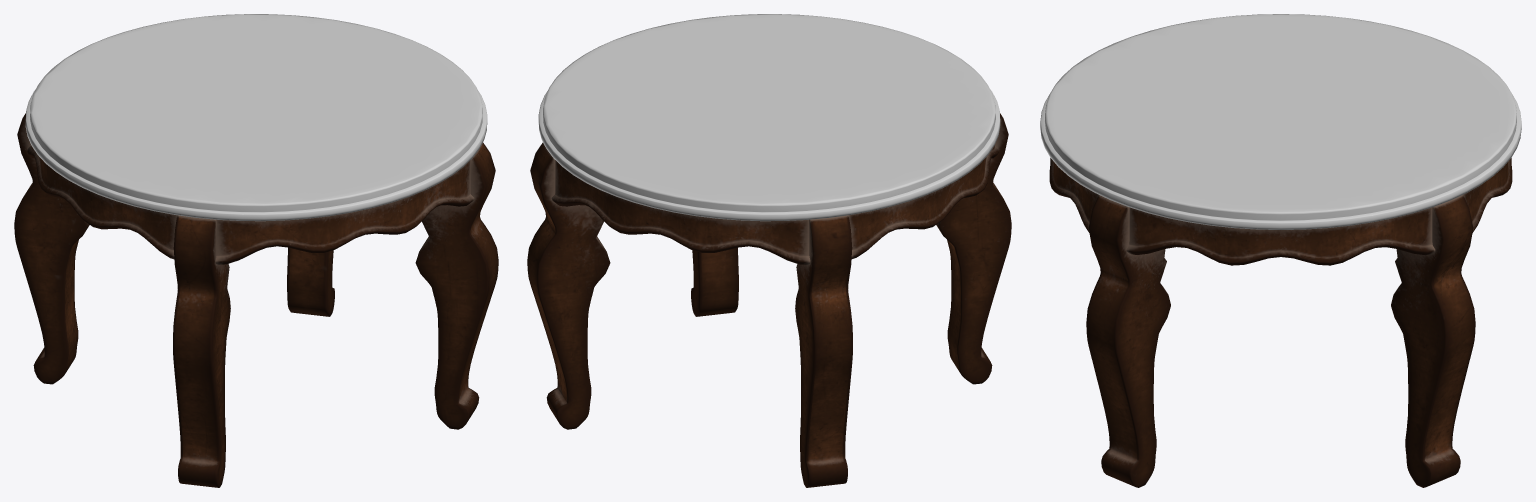
The model's file is wood_table.fbx.
The picture shows the model from 3 angles, left to right: view 1: azimuth 30°, elevation 25°; view 2: azimuth 150°, elevation 25°; view 3: azimuth 270°, elevation 25°; orthographic projection. The views are drawn at different scales.
Parts seen in each view (by area): view 1: Cylinder, Small_table_wood; view 2: Cylinder, Small_table_wood; view 3: Cylinder, Small_table_wood.
Boxes of the visible parts, x1,y1,x2,y2 form: Cylinder: [25, 14, 487, 221]; Small_table_wood: [14, 113, 498, 487]; Cylinder: [538, 14, 1000, 221]; Small_table_wood: [527, 113, 1011, 487]; Cylinder: [1040, 14, 1521, 229]; Small_table_wood: [1049, 158, 1512, 487].
Bounding box in the file's own units: 74.98 × 51.84 × 74.98.
